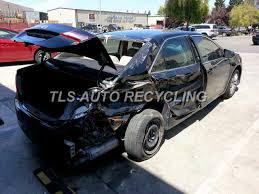doorouter-dent: (164, 73, 206, 117)
pillar-dent: (124, 40, 156, 77)
quaterpanel-dent: (111, 77, 157, 114)
rear-bumper-dent: (51, 132, 122, 161)
